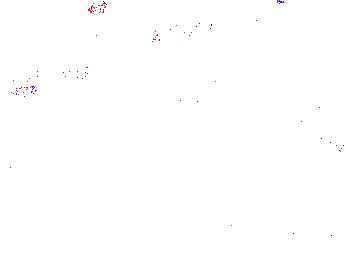glassfish: (222, 106, 324, 169)
red belly glassfish: (1, 81, 40, 102), (87, 1, 128, 15)
redtail glassfish: (158, 79, 226, 118), (145, 16, 214, 47), (20, 61, 96, 85)
